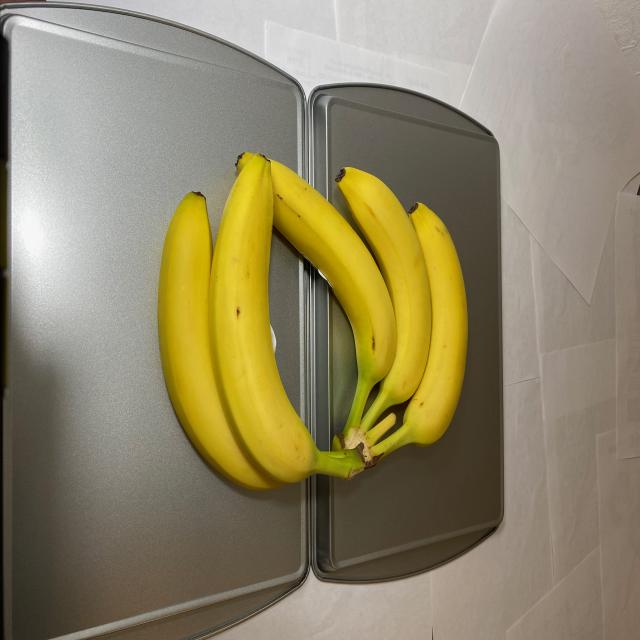Banana: (155, 155, 468, 499)
